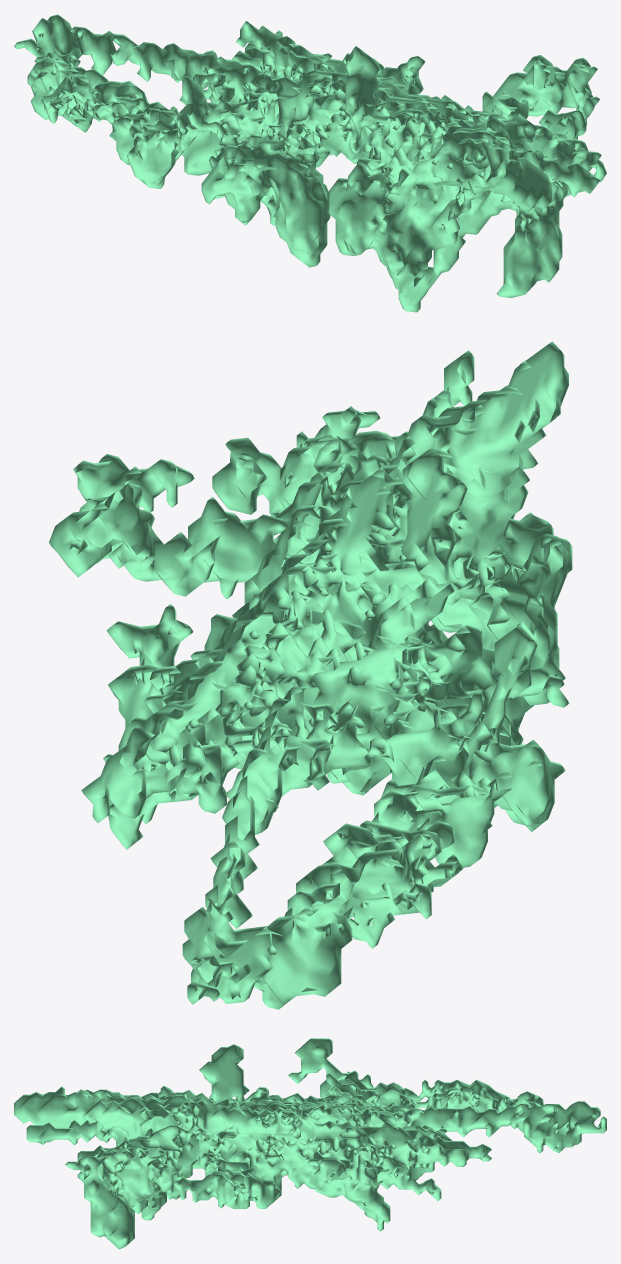
File: osteocyte_29.glb
The picture shows the model from 3 angles, top to bottom: view 1: azimuth 30°, elevation 25°; view 2: azimuth 150°, elevation 25°; view 3: azimuth 270°, elevation 25°; orthographic projection. The views are drawn at different scales.
Visible parts, largest first — view 1: osteocyte_29; view 2: osteocyte_29; view 3: osteocyte_29.
Part boxes in pixels (<box>): osteocyte_29: <box>14,14,606,312</box>; osteocyte_29: <box>49,341,572,1009</box>; osteocyte_29: <box>14,1038,606,1249</box>.
Size of the model in its own units: 24.59 by 13.41 by 41.58.
